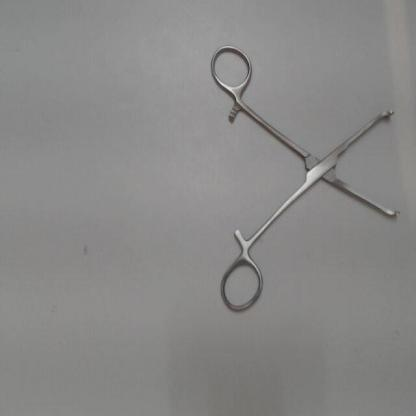Allis Tissue Forceps: (206, 39, 403, 320)
